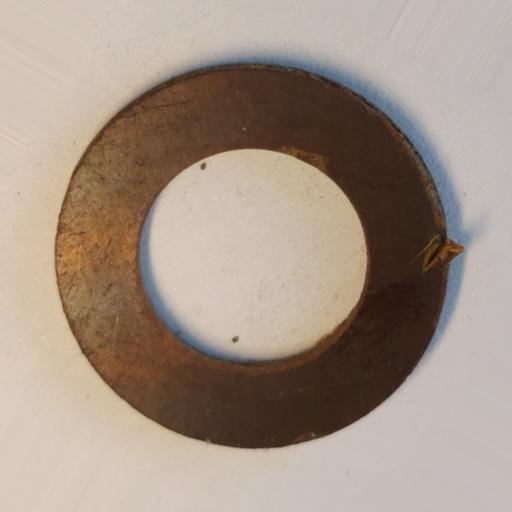defect: (416, 232, 464, 275)
